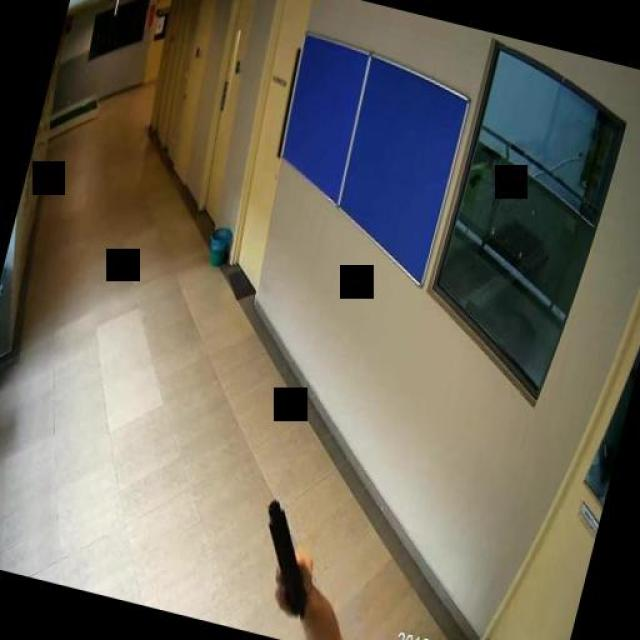gun: (242, 495, 330, 620)
